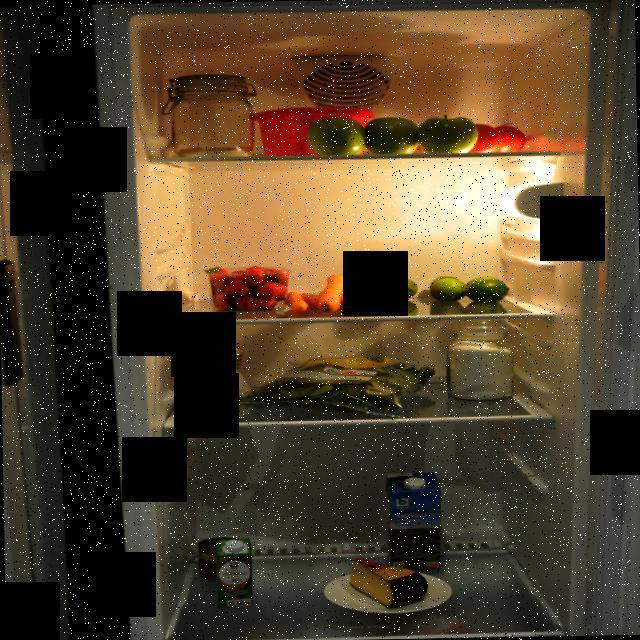apple: (301, 110, 481, 158)
butter: (250, 104, 376, 156)
carrot: (284, 271, 410, 318)
cheese: (345, 554, 430, 612)
corn: (197, 536, 244, 580)
flour: (162, 66, 264, 160), (177, 336, 256, 412)
heavy_cream: (214, 536, 253, 608)
lime: (382, 274, 511, 306)
milk: (382, 469, 443, 573)
spinach: (236, 352, 434, 418)
strawberries: (202, 264, 294, 314)
sugar: (446, 314, 514, 402)
tomato: (468, 120, 530, 155)
